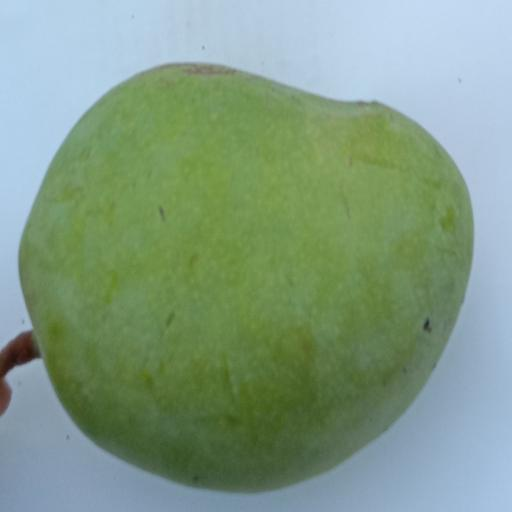mango-unripe: (11, 51, 482, 511)
